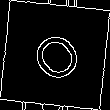O_SE: (22, 21, 88, 89)
